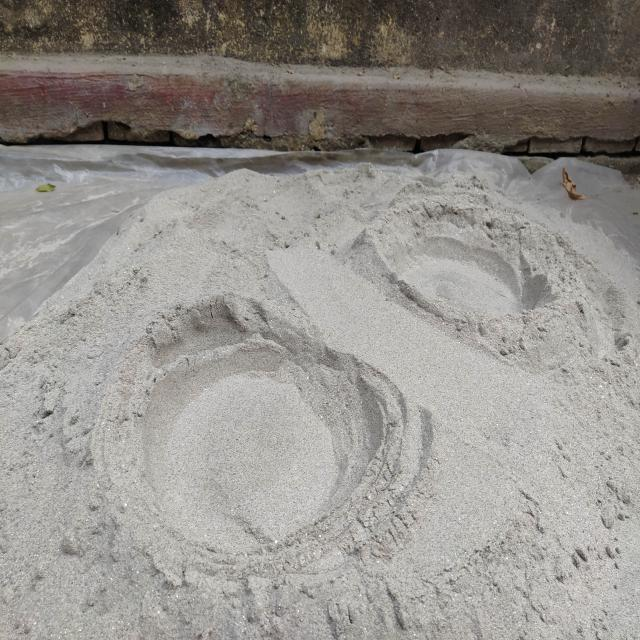C20: (94, 293, 431, 585), (352, 180, 554, 335)
